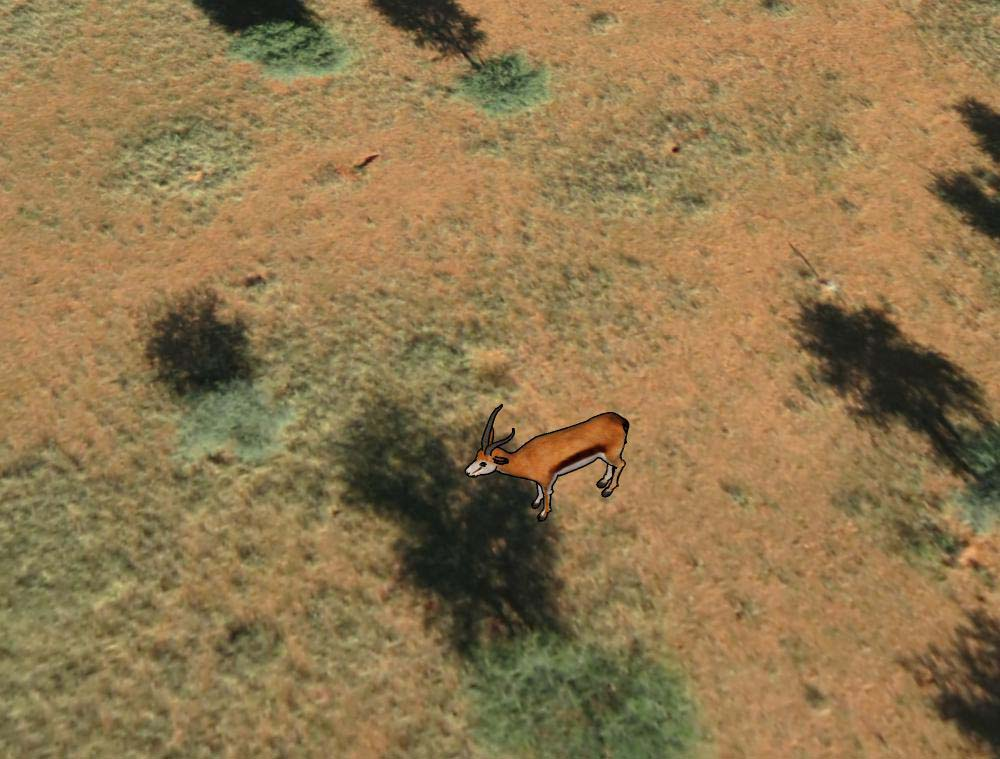springbok: (464, 400, 635, 529)
